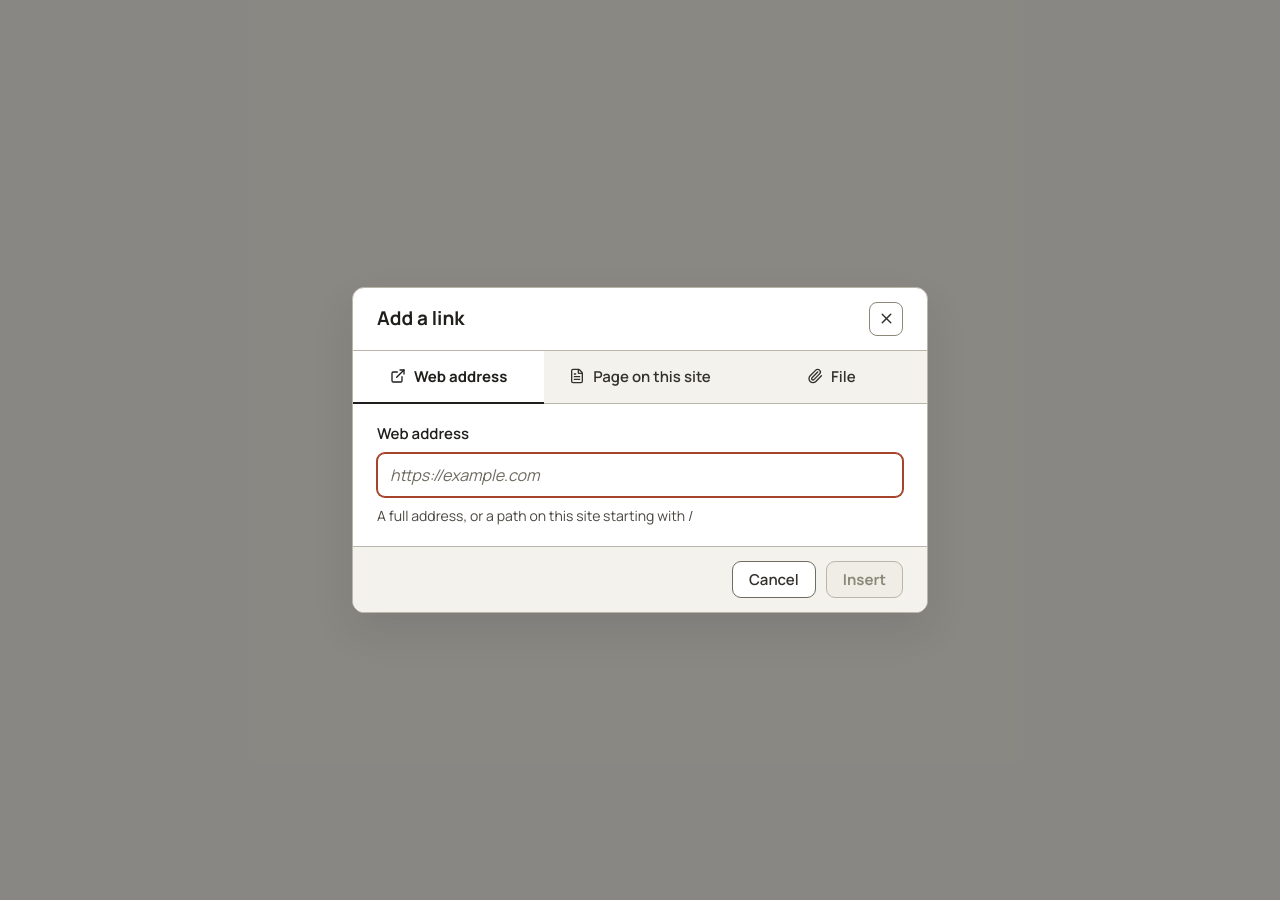
Test case: LinkModal when the library cannot be read › says so rather than claiming the library is empty
Click the tab "File" at x=831, y=377, box [736,351,927,404]
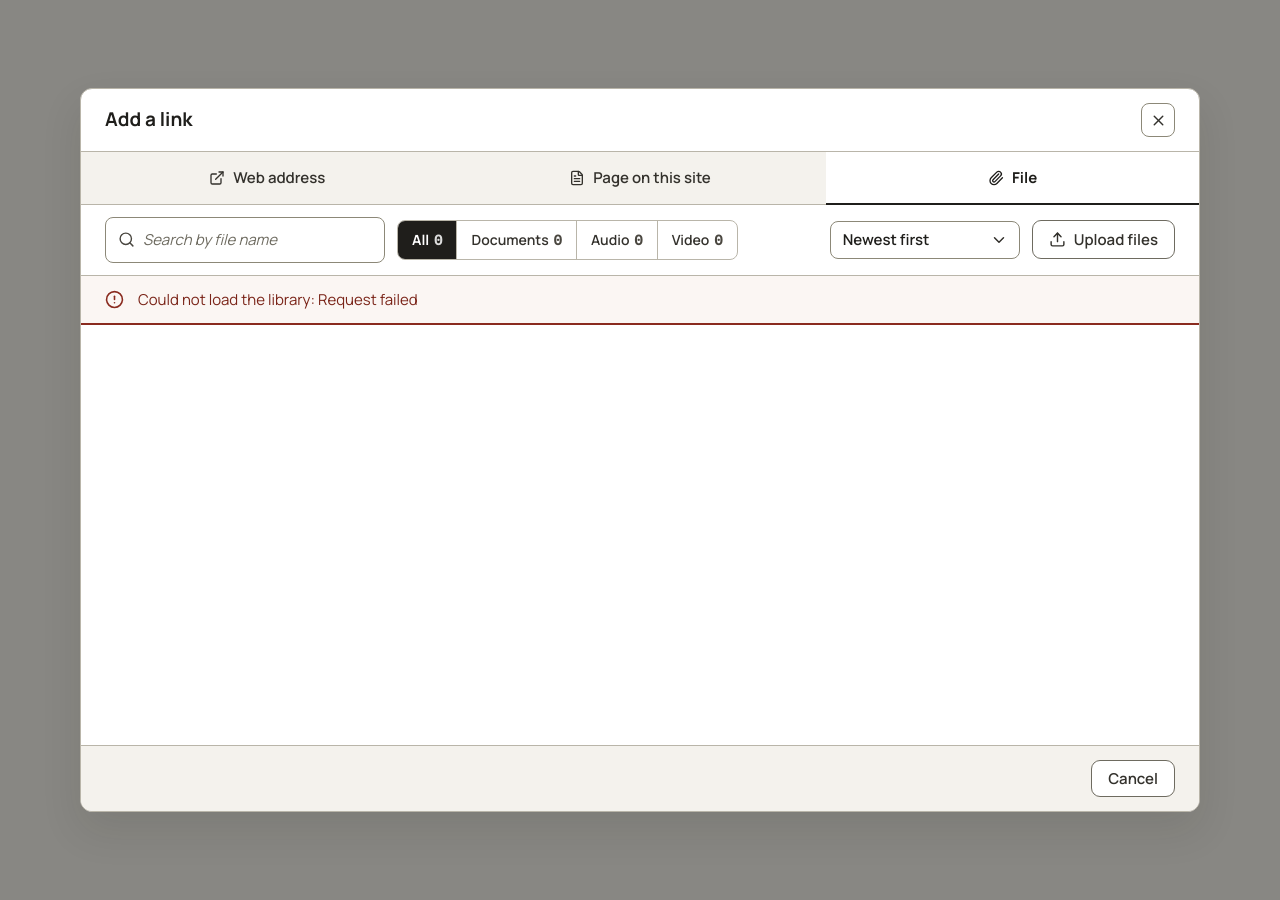
Expected: the text "Could not load the library: Request failed" is shown, [138,288,418,309]
